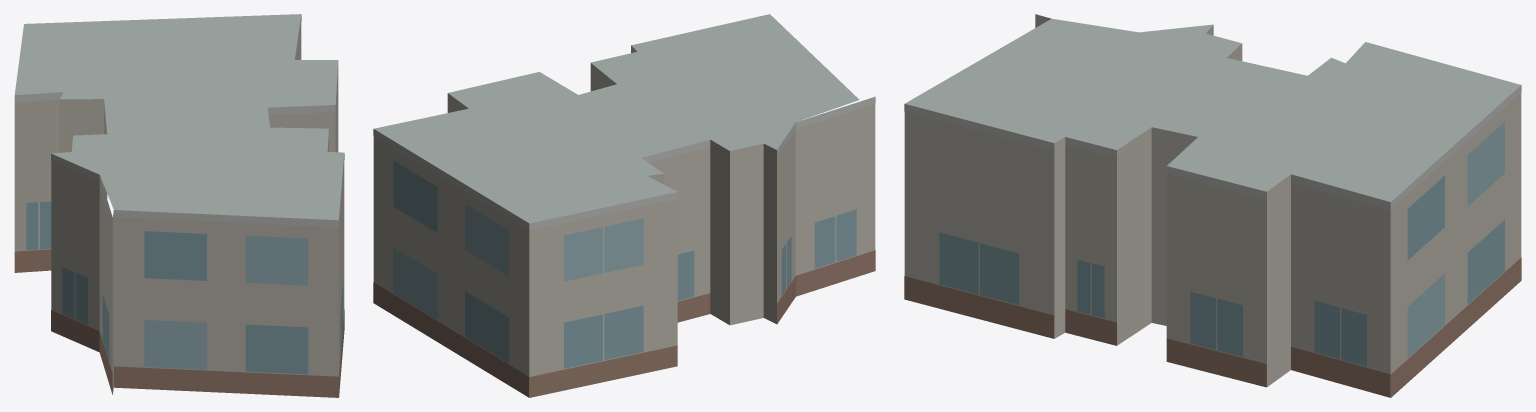
The model's file is survey-upis-32754556.glb.
3 renders of one model, left to right at view 1: azimuth 30°, elevation 25°; view 2: azimuth 150°, elevation 25°; view 3: azimuth 270°, elevation 25°, orthographic. The views are drawn at different scales.
Visible parts, largest first — view 1: survey-upis-32754556.tmp; view 2: survey-upis-32754556.tmp; view 3: survey-upis-32754556.tmp.
Boxes of the visible parts, x1,y1,x2,y2 form: survey-upis-32754556.tmp: (14,14,344,397); survey-upis-32754556.tmp: (373,14,875,397); survey-upis-32754556.tmp: (904,14,1521,397).
Bounding box in the file's own units: 12.59 × 6.1 × 17.43.
